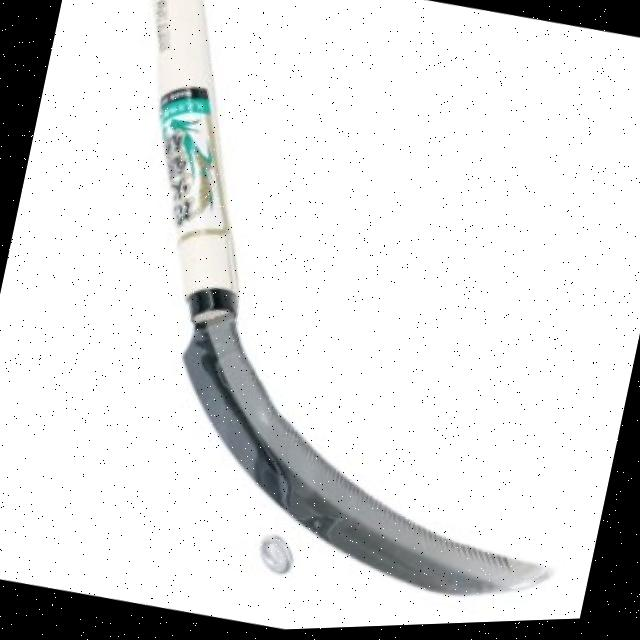sickle: (14, 0, 640, 640)
